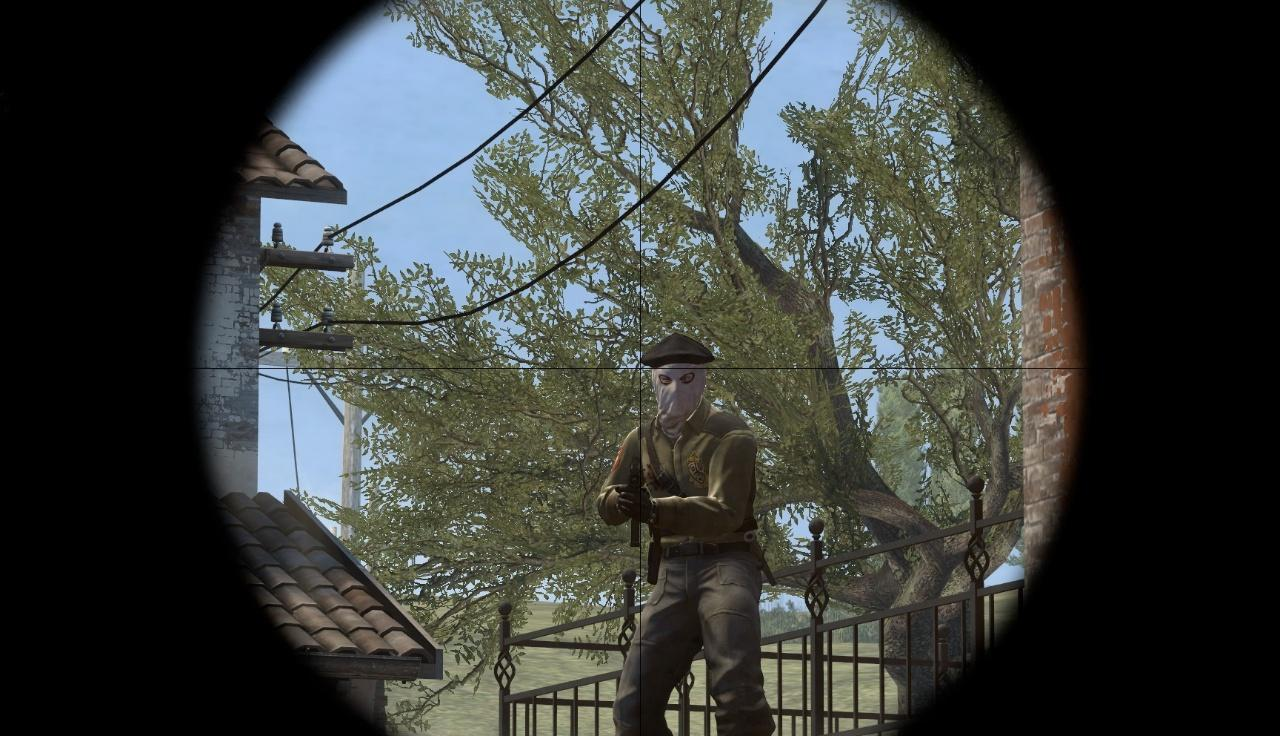tt: (599, 333, 771, 735)
tthead: (641, 334, 715, 431)
